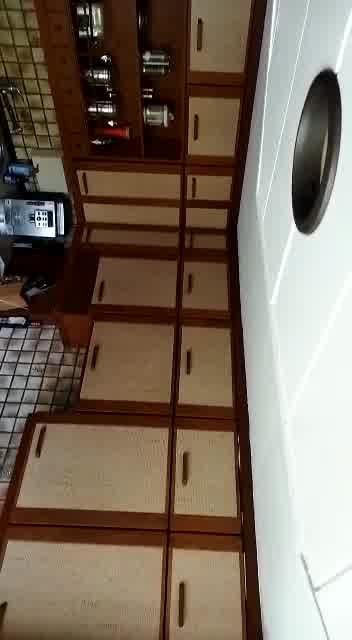cabinet_door: (0, 528, 167, 640), (17, 419, 174, 535), (168, 419, 258, 527), (169, 534, 255, 640), (82, 320, 175, 416), (174, 320, 243, 419), (188, 0, 262, 86), (99, 255, 178, 316), (183, 89, 247, 156), (73, 164, 178, 202), (178, 256, 237, 322), (179, 169, 234, 208)
handle: (173, 575, 194, 633), (176, 444, 198, 494), (86, 335, 108, 378), (33, 418, 53, 464), (179, 341, 199, 379), (184, 266, 203, 303), (194, 13, 209, 59), (190, 106, 205, 149), (185, 170, 203, 205), (75, 167, 93, 202), (95, 278, 108, 308)
